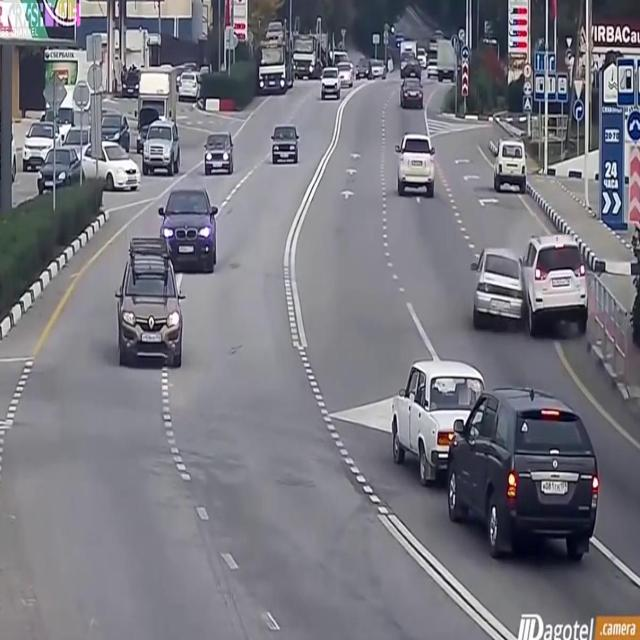accident: (467, 224, 596, 346)
non_accident: (386, 350, 602, 576), (111, 182, 221, 382), (19, 95, 145, 201), (134, 60, 186, 180)
